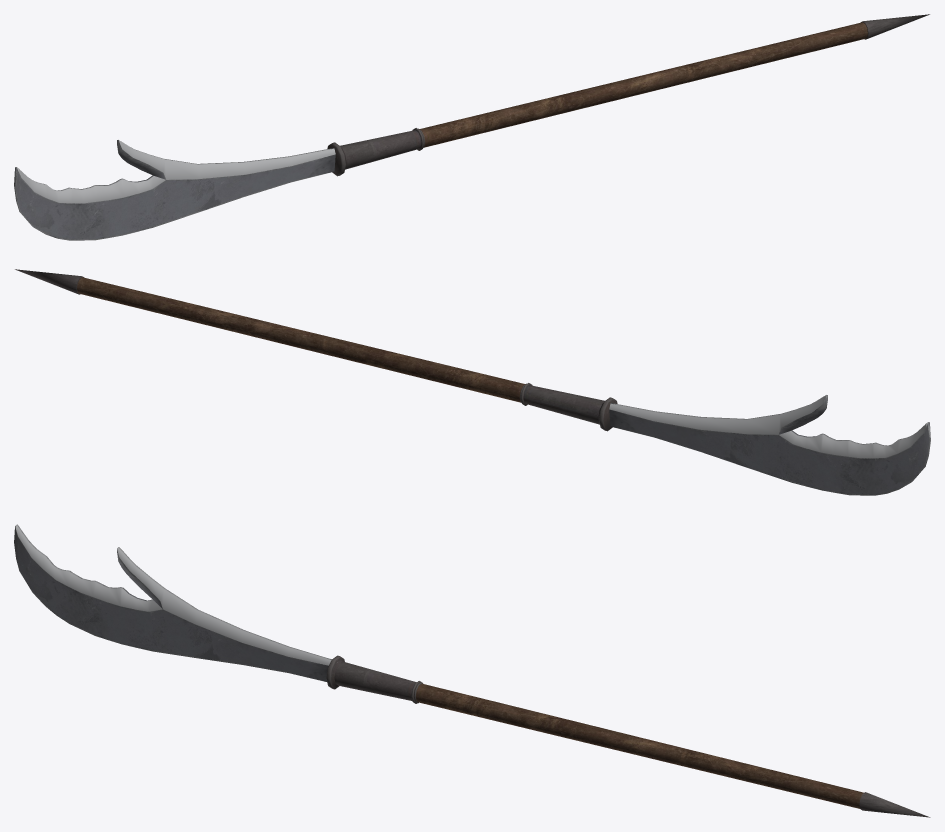
The model's file is woldo.glb.
3 renders of one model, top to bottom at view 1: azimuth 30°, elevation 25°; view 2: azimuth 150°, elevation 25°; view 3: azimuth 330°, elevation 25°, orthographic.
Parts seen in each view (by area): view 1: SM_Woldo; view 2: SM_Woldo; view 3: SM_Woldo.
Part boxes in pixels (left/top/right/bottom): SM_Woldo: left=14, top=14, right=929, bottom=240; SM_Woldo: left=15, top=269, right=930, bottom=495; SM_Woldo: left=14, top=524, right=930, bottom=817.
Size of the model in its own units: 3.23 by 0.3237 by 0.1.
1 material, 1 textured.
